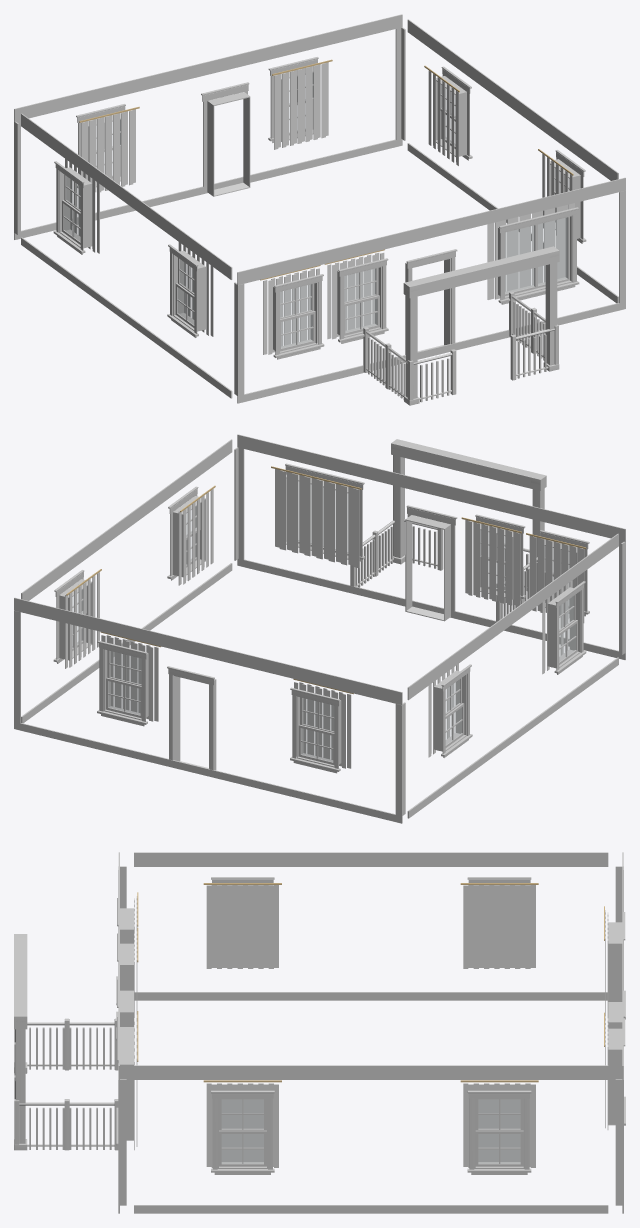
File: SM_Town_House_Orch7_Trim.fbx
3 views of the same model, one above another, from view 1: azimuth 30°, elevation 25°; view 2: azimuth 150°, elevation 25°; view 3: azimuth 270°, elevation 25° (orthographic). The views are drawn at different scales.
Parts seen in each view (by area): view 1: SM_Town_House_Orch7_Trim_1; view 2: SM_Town_House_Orch7_Trim_1; view 3: SM_Town_House_Orch7_Trim_1.
Part boxes in pixels (box(x1,y1,x2,y2)): SM_Town_House_Orch7_Trim_1: box(14, 14, 625, 405); SM_Town_House_Orch7_Trim_1: box(14, 434, 625, 823); SM_Town_House_Orch7_Trim_1: box(14, 852, 625, 1213).
Bounding box in the file's own units: 913 × 292 × 1096.
